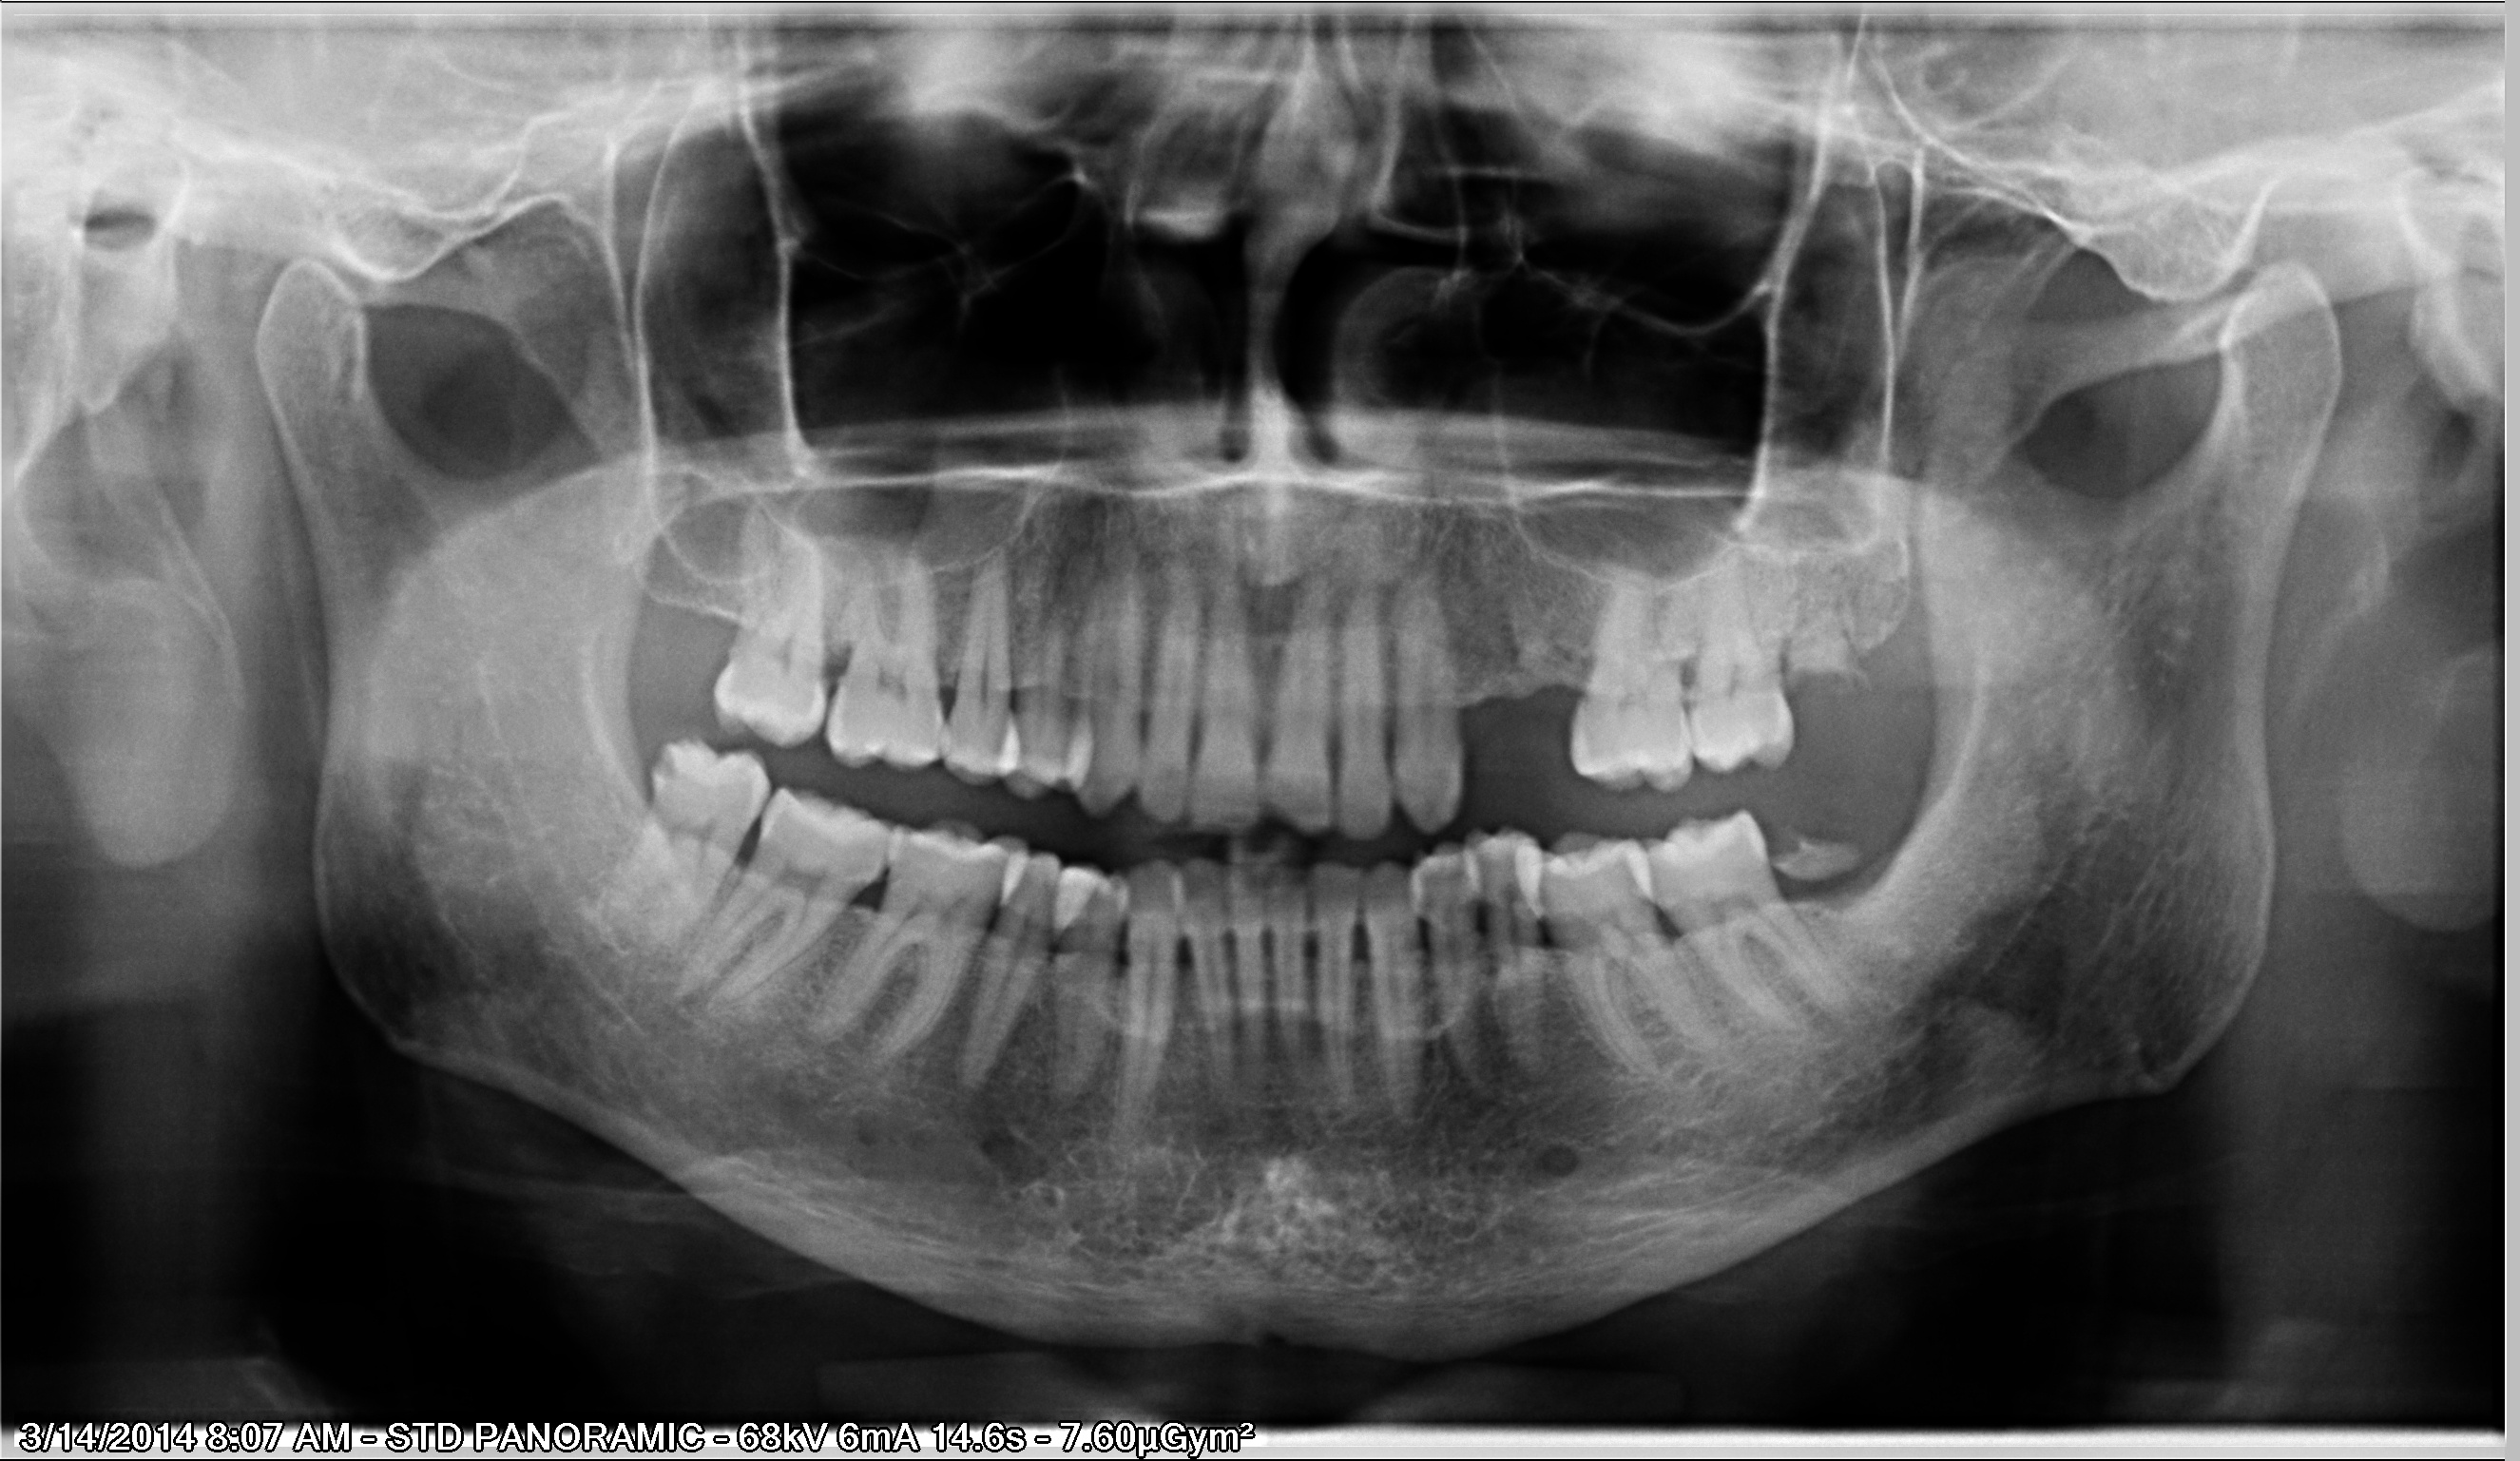CAR: (624, 722, 711, 795)
ROT: (1770, 572, 1878, 717), (1739, 817, 1889, 899)
